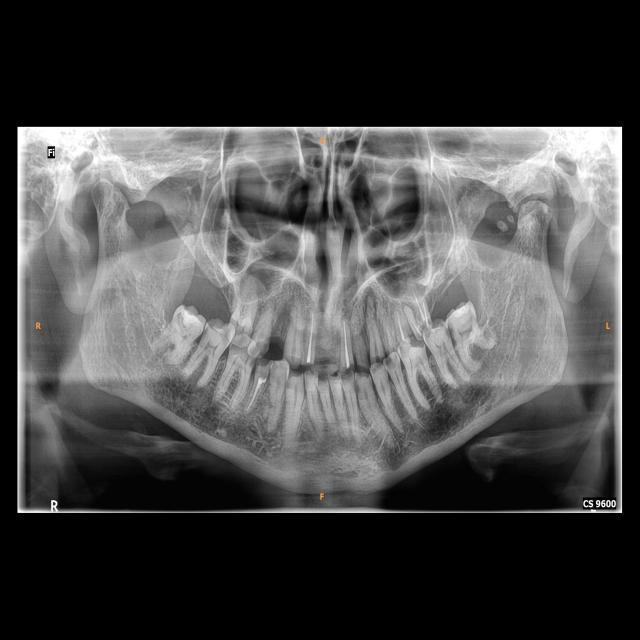dentin-curugu: (352, 377, 363, 396), (411, 336, 424, 350), (257, 358, 273, 369), (384, 356, 396, 370)
kanal-tedavisi: (341, 319, 354, 367), (414, 294, 432, 326), (303, 312, 314, 362), (392, 310, 408, 342), (251, 379, 266, 413)
